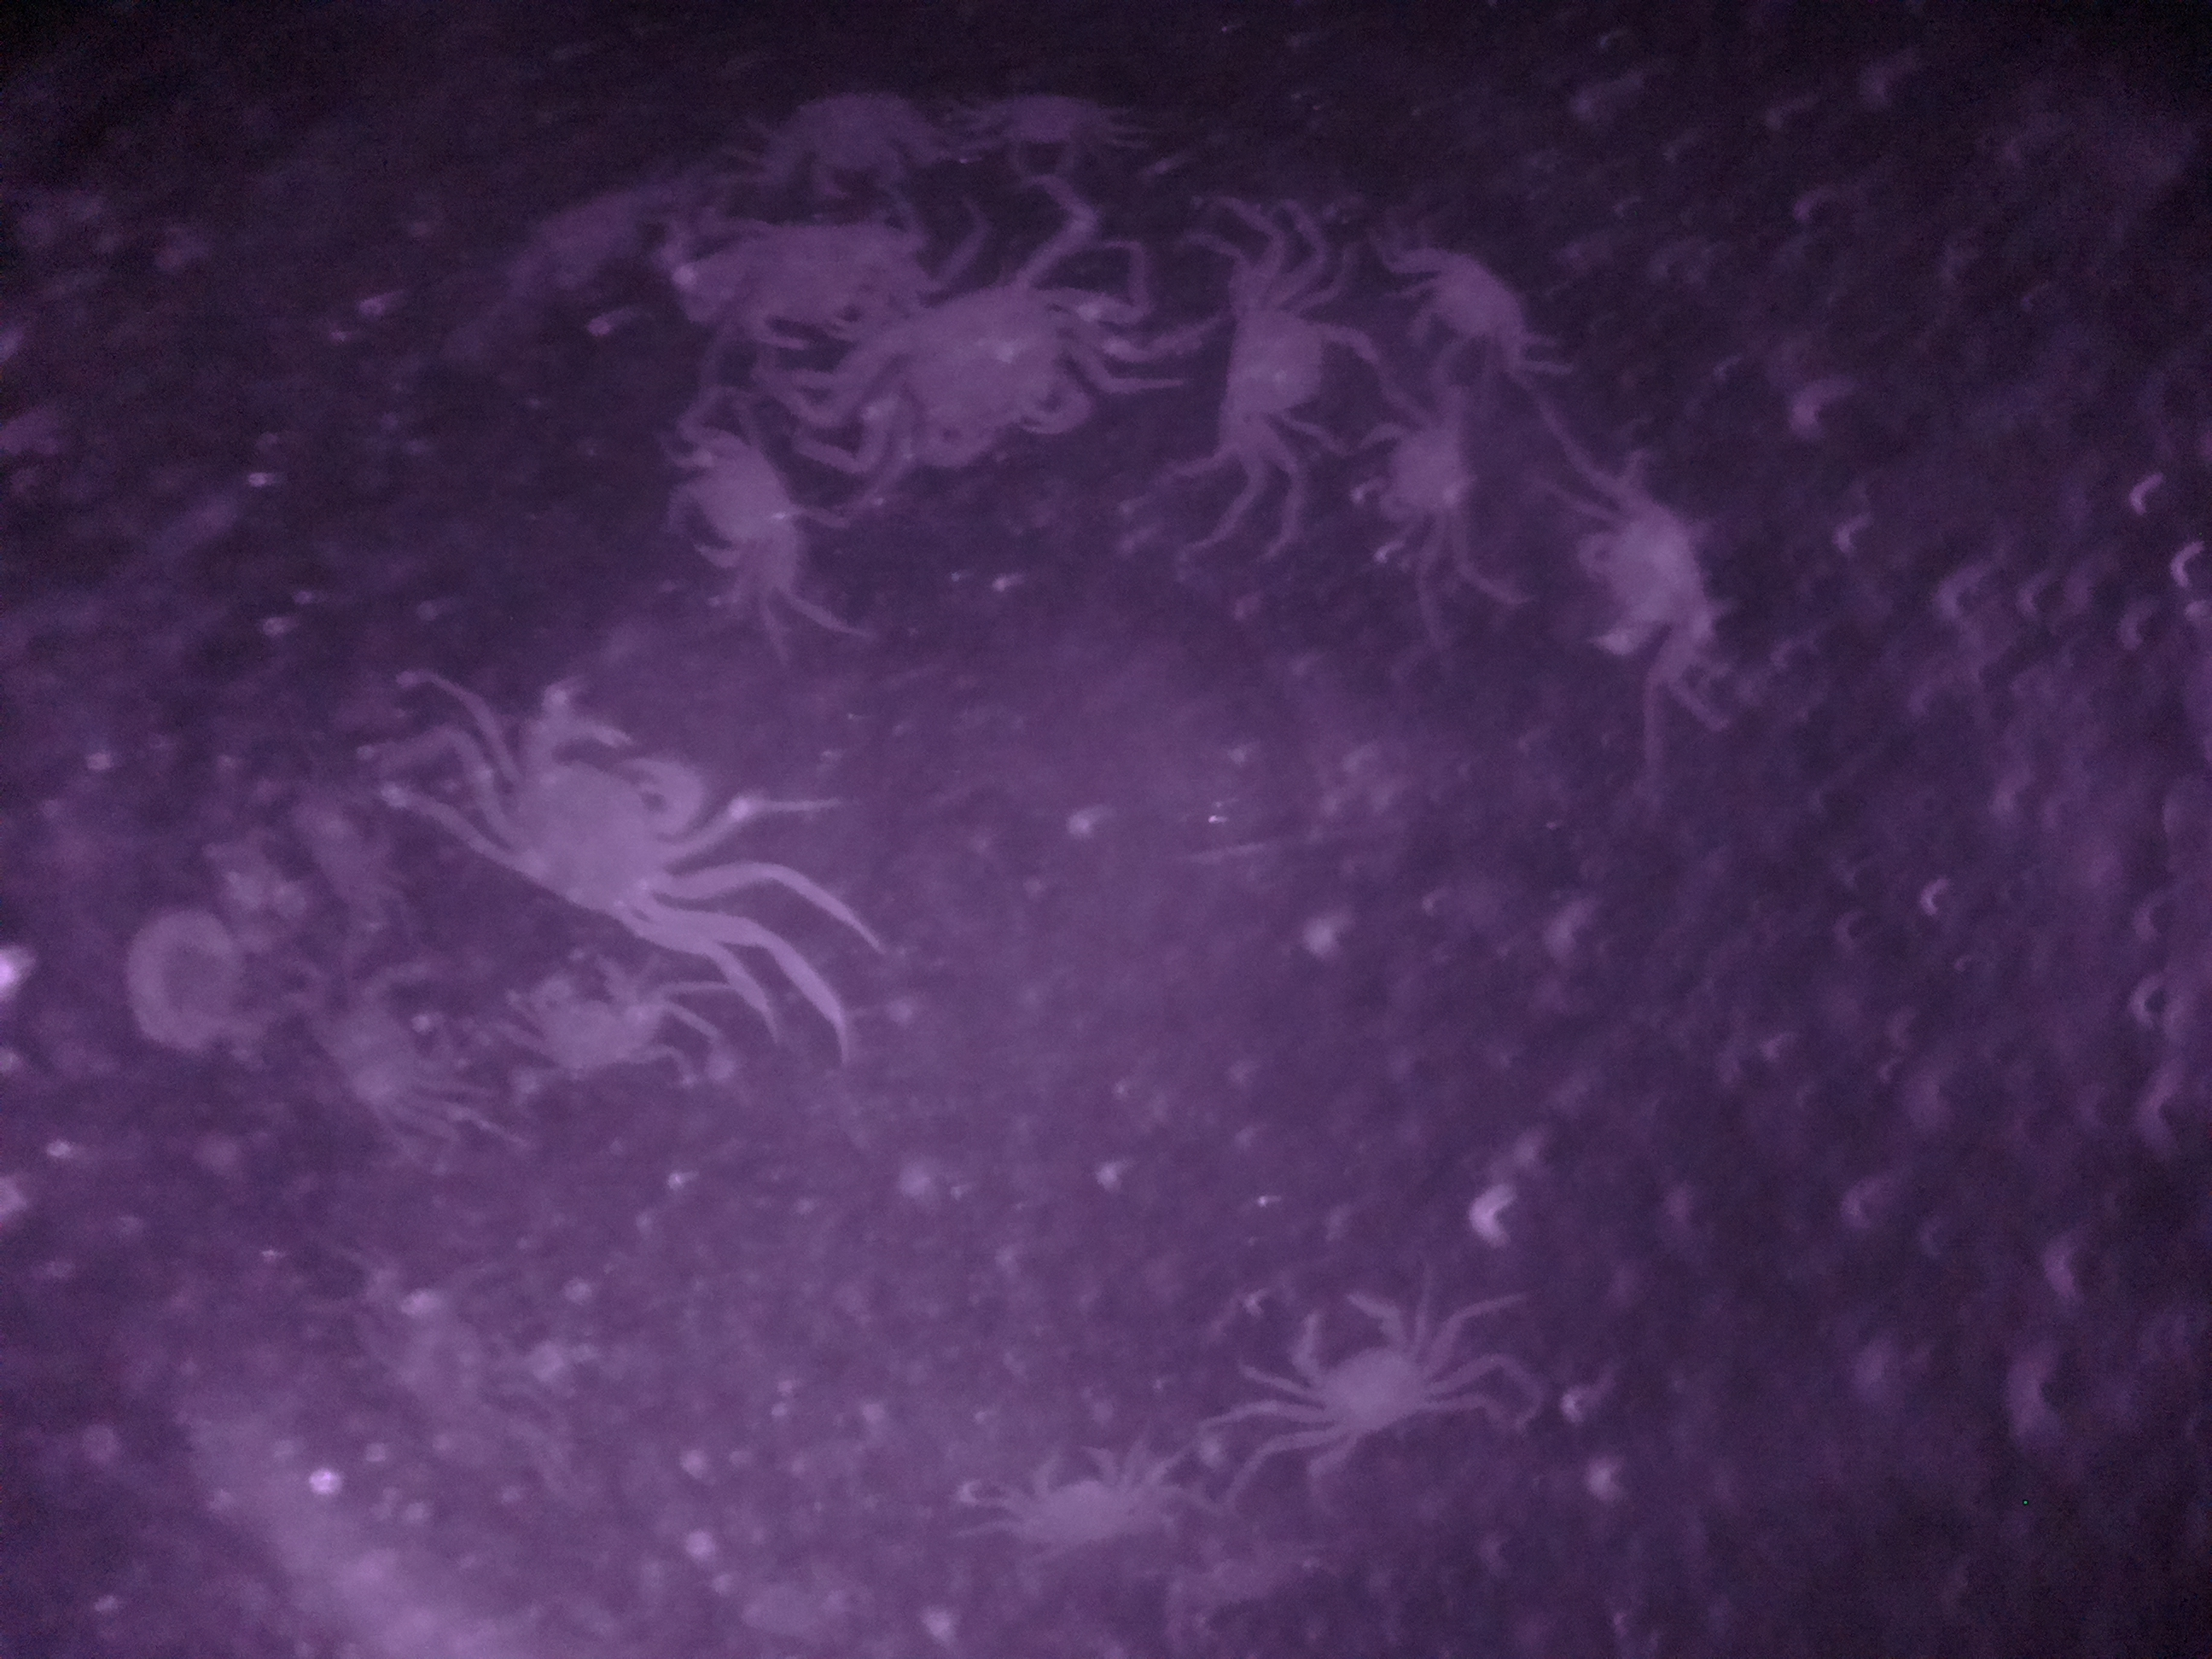Crab: (1271, 1284, 1468, 1466)
